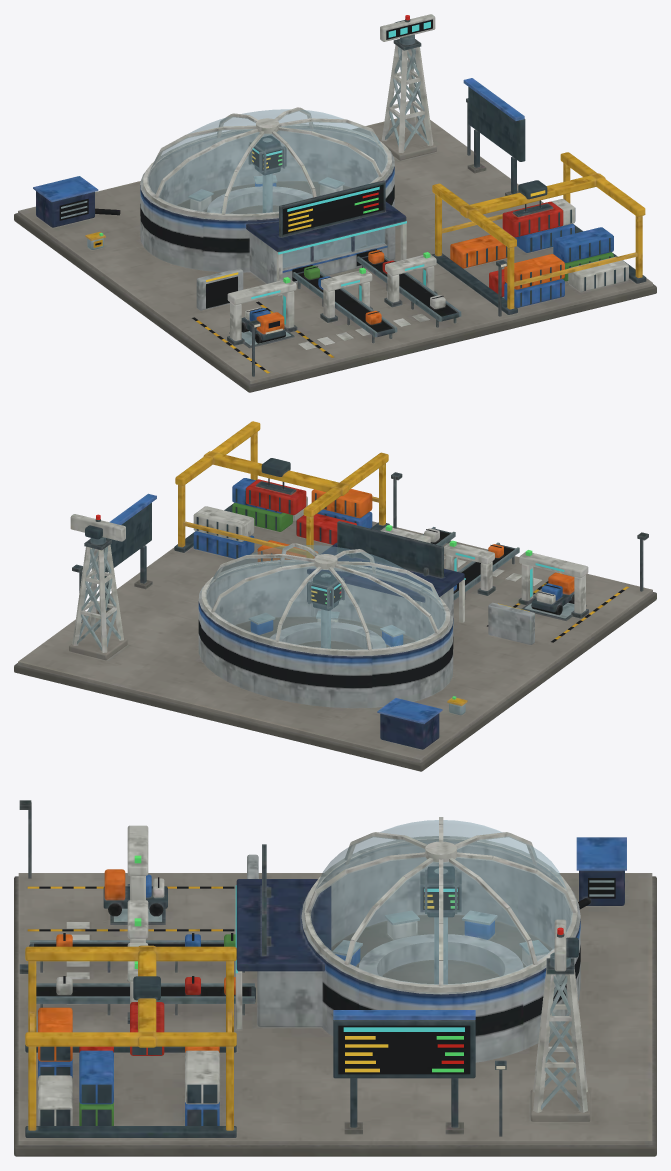
The model's file is trade_host.glb.
3 renders of one model, top to bottom at view 1: azimuth 30°, elevation 25°; view 2: azimuth 150°, elevation 25°; view 3: azimuth 270°, elevation 25°, orthographic. The views are drawn at different scales.
Parts seen in each view (by area): view 1: te_trade_host, move_sensor; view 2: te_trade_host, move_sensor; view 3: te_trade_host, move_sensor.
Boxes of the visible parts, left/top/right/bottom form: te_trade_host: left=14, top=39, right=656, bottom=392; move_sensor: left=380, top=14, right=435, bottom=44; te_trade_host: left=14, top=421, right=656, bottom=771; move_sensor: left=70, top=514, right=125, bottom=544; te_trade_host: left=14, top=800, right=656, bottom=1156; move_sensor: left=550, top=919, right=578, bottom=971.
Bounding box in the file's own units: 2.8 × 0.9394 × 2.8.
2 materials, 1 textured.
